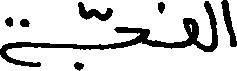X: (0, 12, 38, 70), (115, 22, 148, 53), (221, 0, 236, 51), (205, 0, 217, 56), (184, 13, 188, 52)
